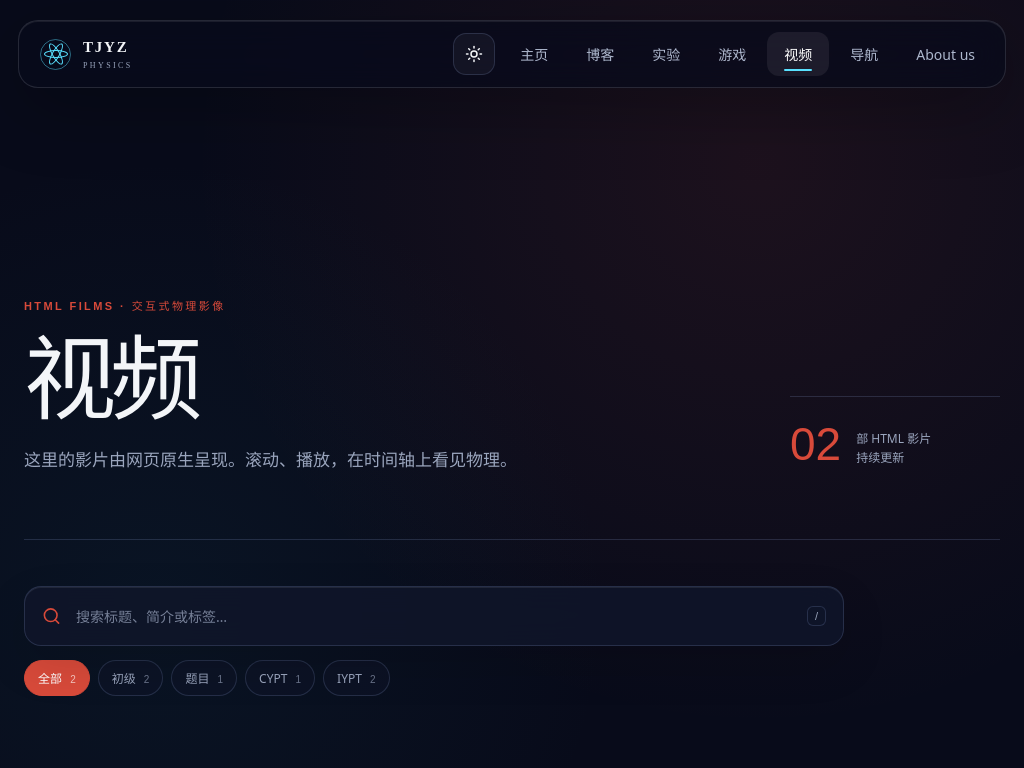
Test case: site routes › filters HTML videos by search text and tag
expect the button "题目 1" is shown: met, box 171,660 -> 237,696
expect the button "CYPT 1" is shown: met, box 245,660 -> 315,696
Type "不存在的影片" into the field with placeholder "搜索标题、简介或标签…" at (434, 616), box 74,606 -> 794,626
(page scrolled)
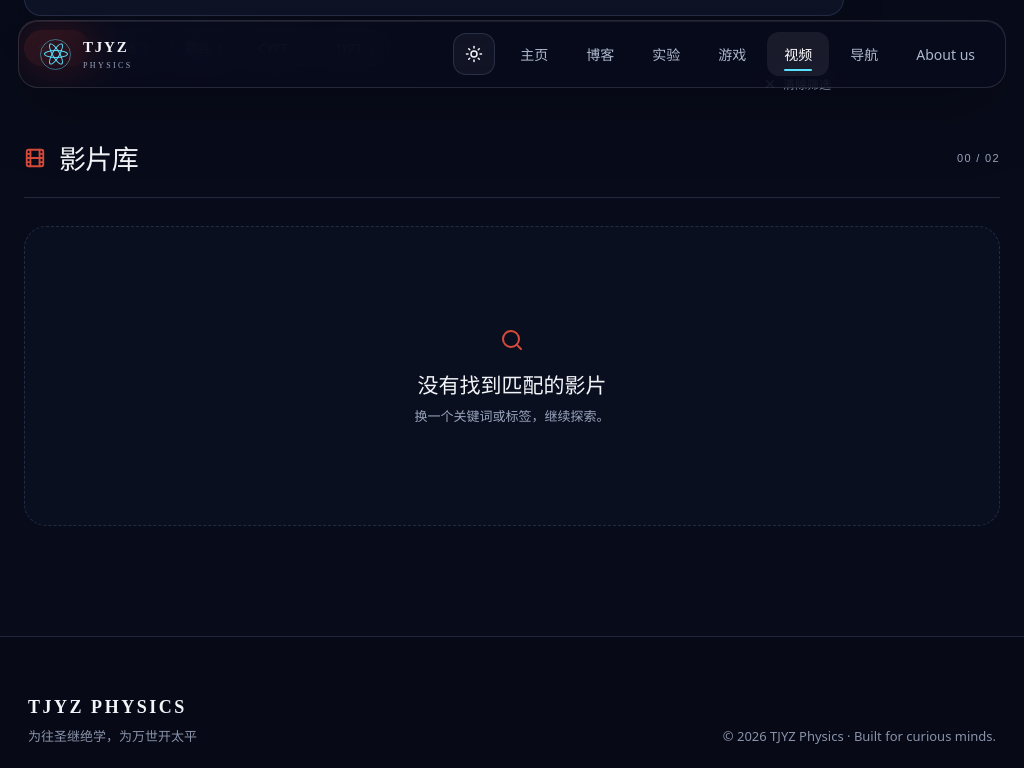
expect the heading "没有找到匹配的影片" is shown: met, box 418,368 -> 606,398
